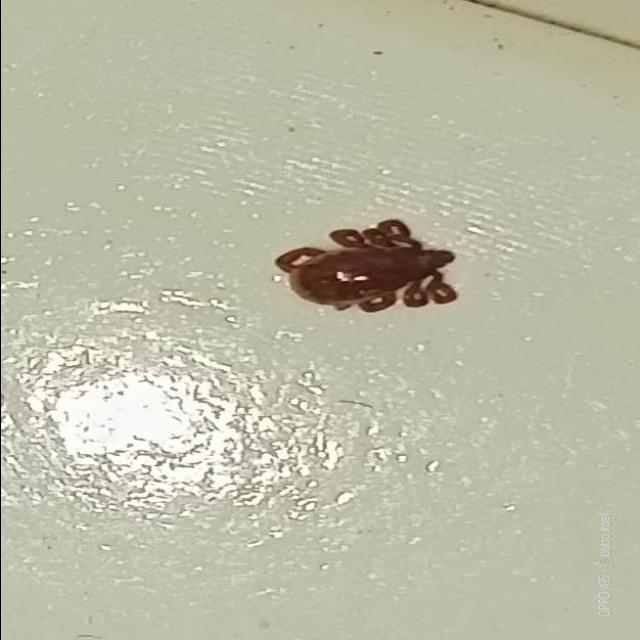Rhipicephalus Sanguineus-M: (275, 217, 459, 314)
